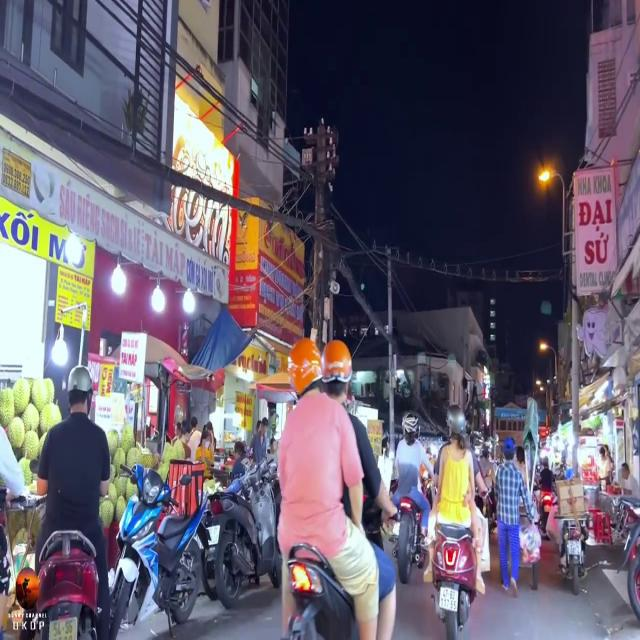bien_trang: (434, 587, 459, 613)
